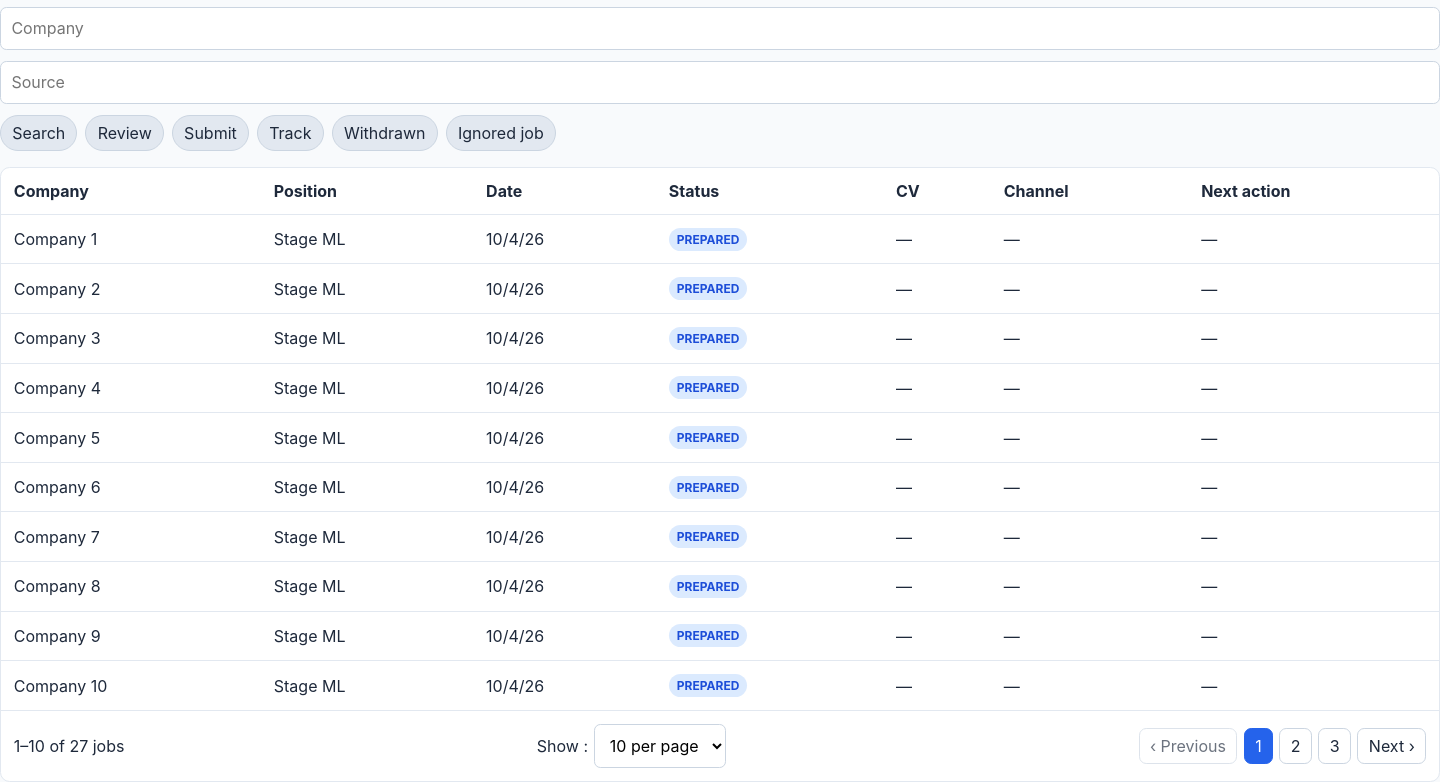
Scenario: pagination des candidatures › affiche 10 jobs par page et permet la navigation
The width and height of the screenshot is (1440, 782).
(page scrolled)
expect the element showing "1–10 of 27 jobs Show : ‹ Previous 1 2 3 Next ›" is shown: met, box [1,711,1439,781]
expect the button "‹ Previous" is disabled: met, box [1139,728,1237,764]
Step 1. Click the button "2" → [1296, 746], box [1280,728,1312,764]
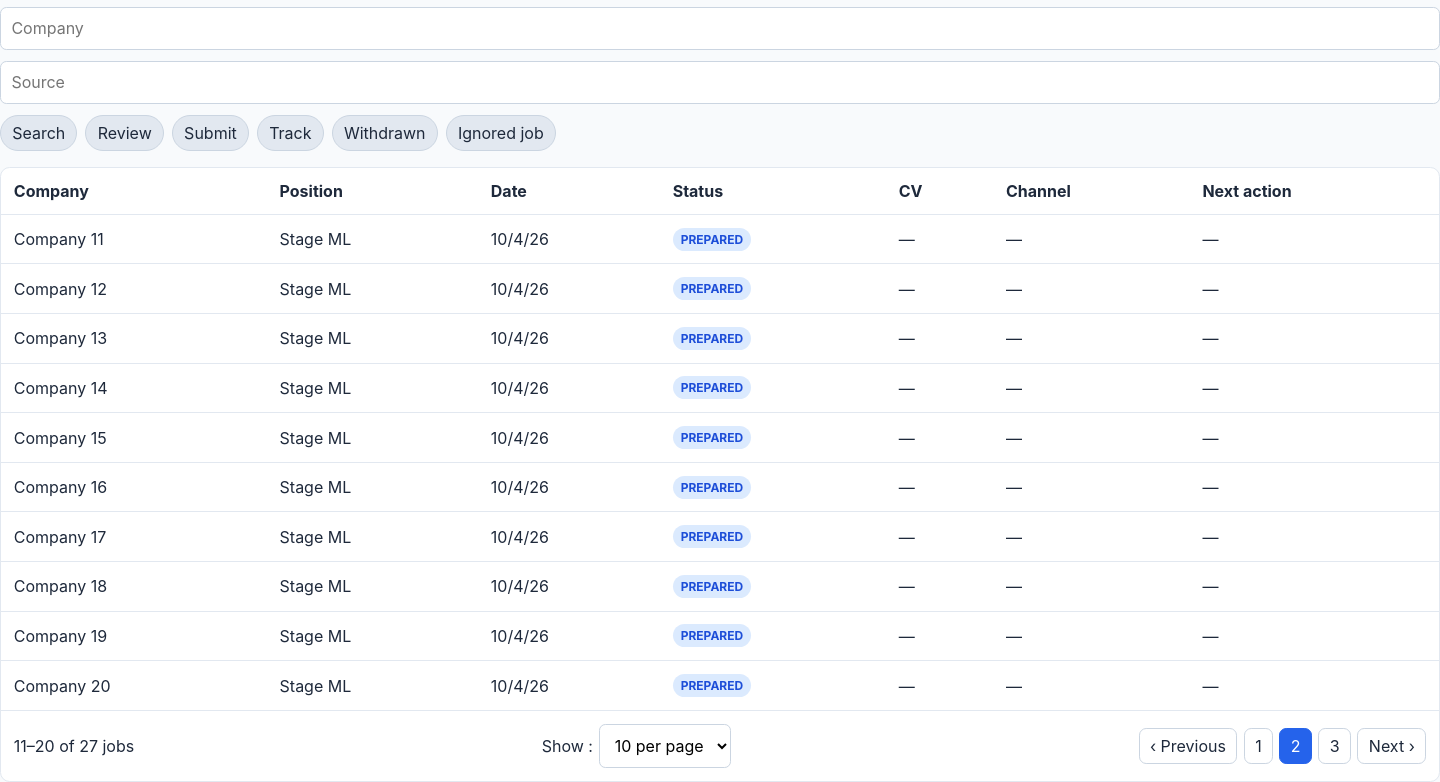
expect the element showing "11–20 of 27 jobs Show : ‹ Previous 1 2 3 Next ›" is shown: met, box [1,711,1439,781]
Step 2. Click the button "Next ›" → [1392, 746], box [1358,728,1426,764]
(page scrolled)
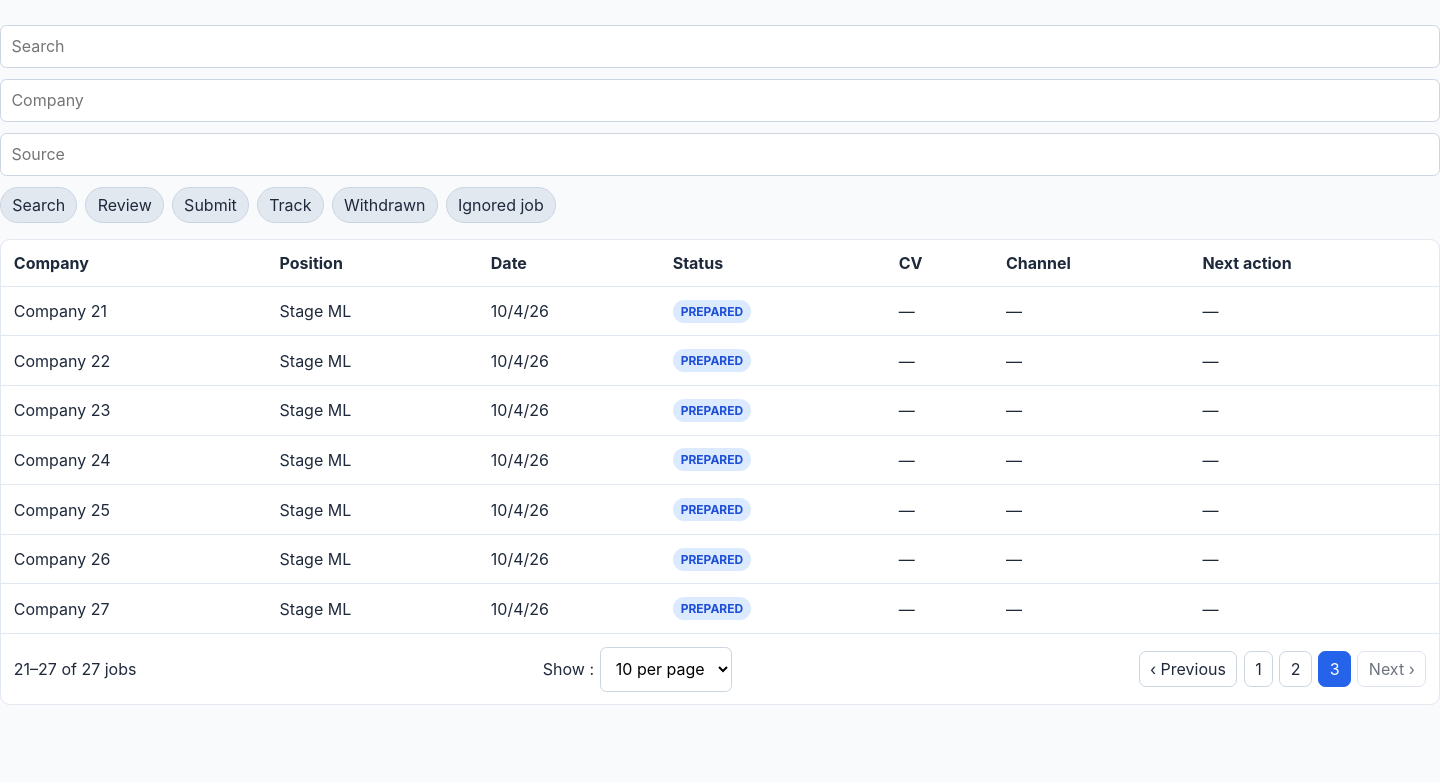
expect the button "Next ›" is disabled: met, box [1358,651,1426,687]
